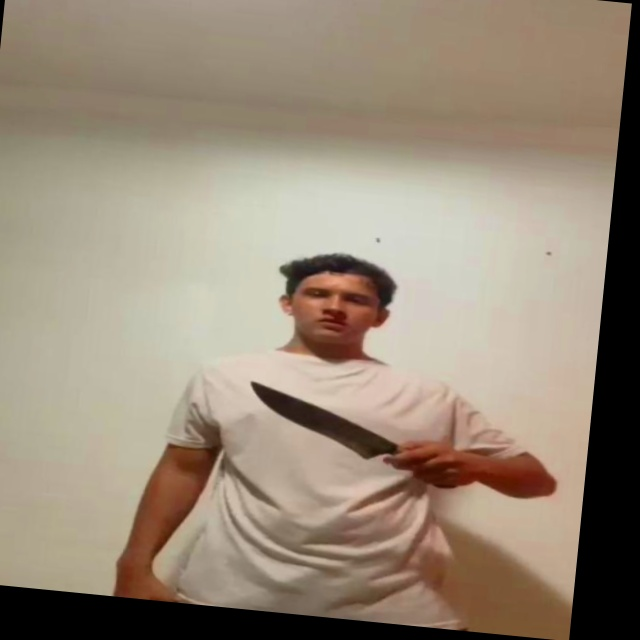Sharp-Object: (244, 378, 389, 460)
